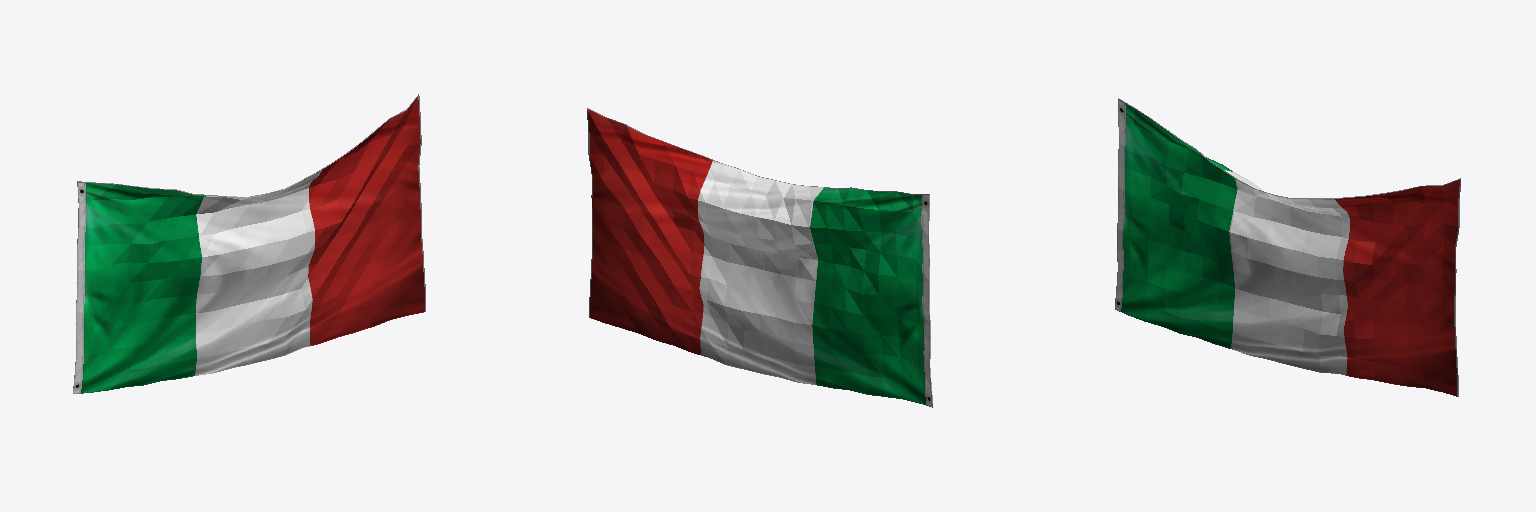
3 renders of one model, left to right at view 1: azimuth 30°, elevation 25°; view 2: azimuth 150°, elevation 25°; view 3: azimuth 330°, elevation 25°, orthographic.
Visible parts, largest first — view 1: flaghangingpack1:flaghanging1_horizontal; view 2: flaghangingpack1:flaghanging1_horizontal; view 3: flaghangingpack1:flaghanging1_horizontal.
Boxes of the visible parts, box(x1,y1,x2,y2) form: flaghangingpack1:flaghanging1_horizontal: box(73, 94, 425, 393); flaghangingpack1:flaghanging1_horizontal: box(587, 108, 932, 407); flaghangingpack1:flaghanging1_horizontal: box(1115, 98, 1460, 396).
Size of the model in its own units: 4.79 by 2.97 by 0.4453.
Materials: 1 (1 with a texture image).